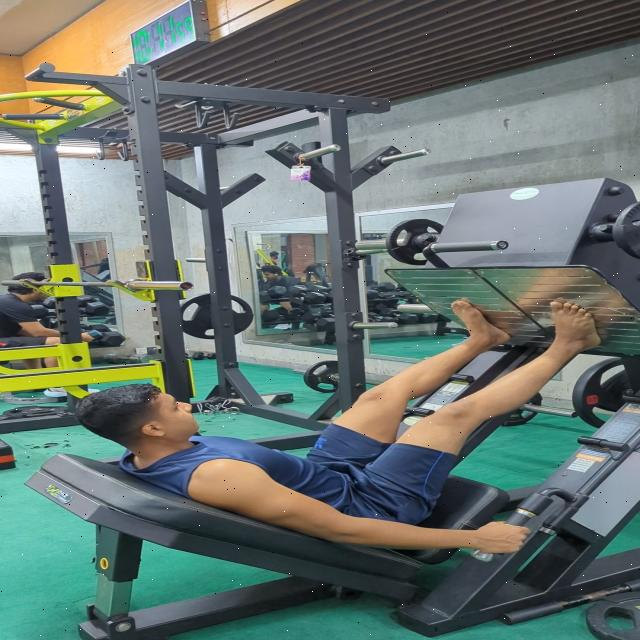Normal_LegPress: (71, 296, 616, 562)
